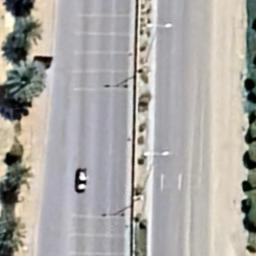sedan: (76, 167, 88, 193)
